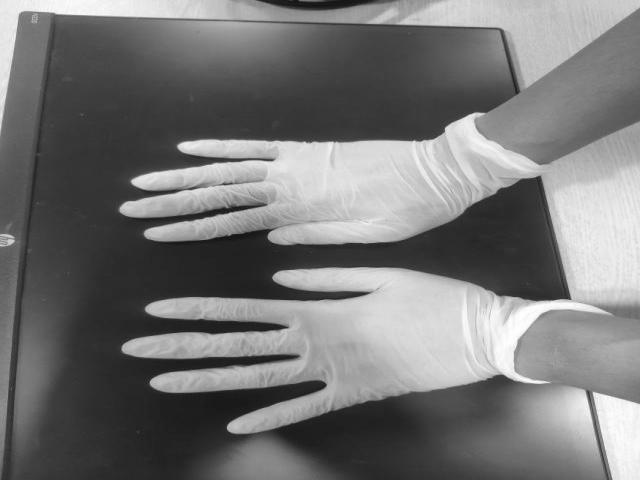gloved: (118, 264, 486, 436), (117, 138, 450, 246)
